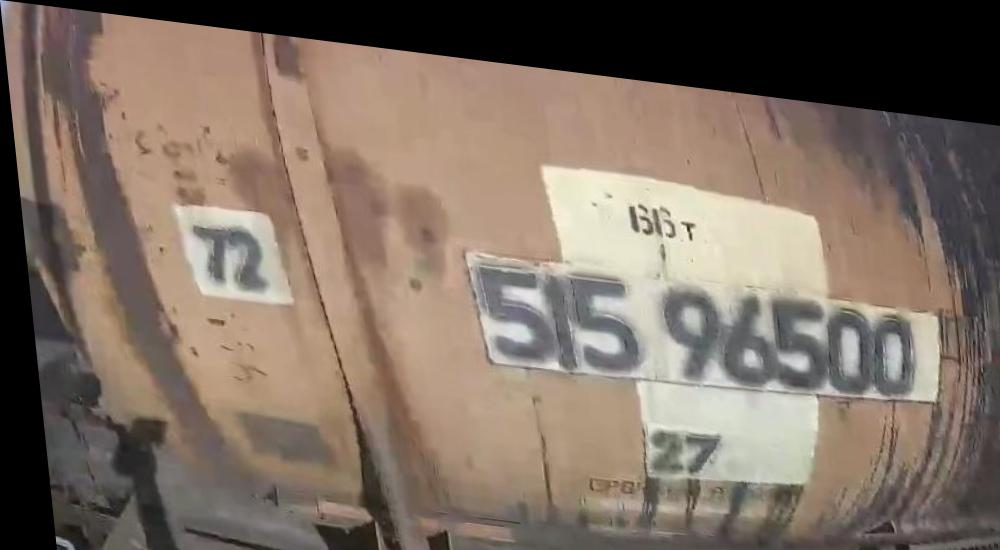Wagon-number: (459, 240, 923, 395)
